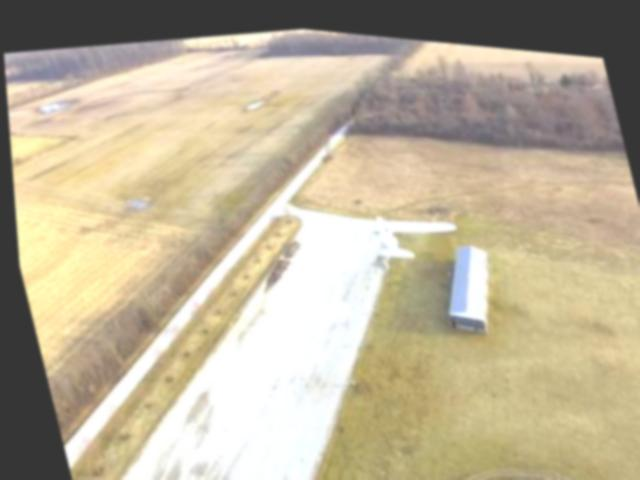uav: (300, 176, 468, 284)
